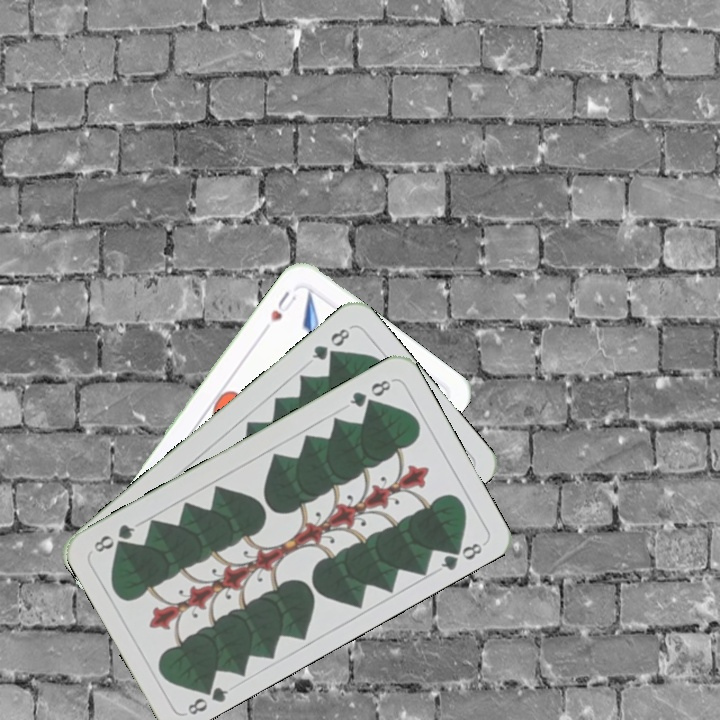G8: (183, 677, 231, 718), (308, 323, 354, 363), (345, 375, 396, 410)
HU: (266, 286, 300, 325)
